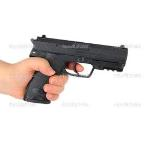Pistol: (24, 34, 128, 102)
